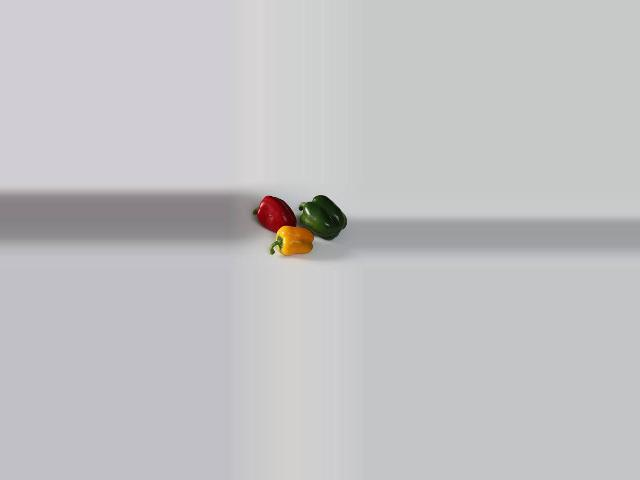bell_pepper: (269, 219, 314, 259)
